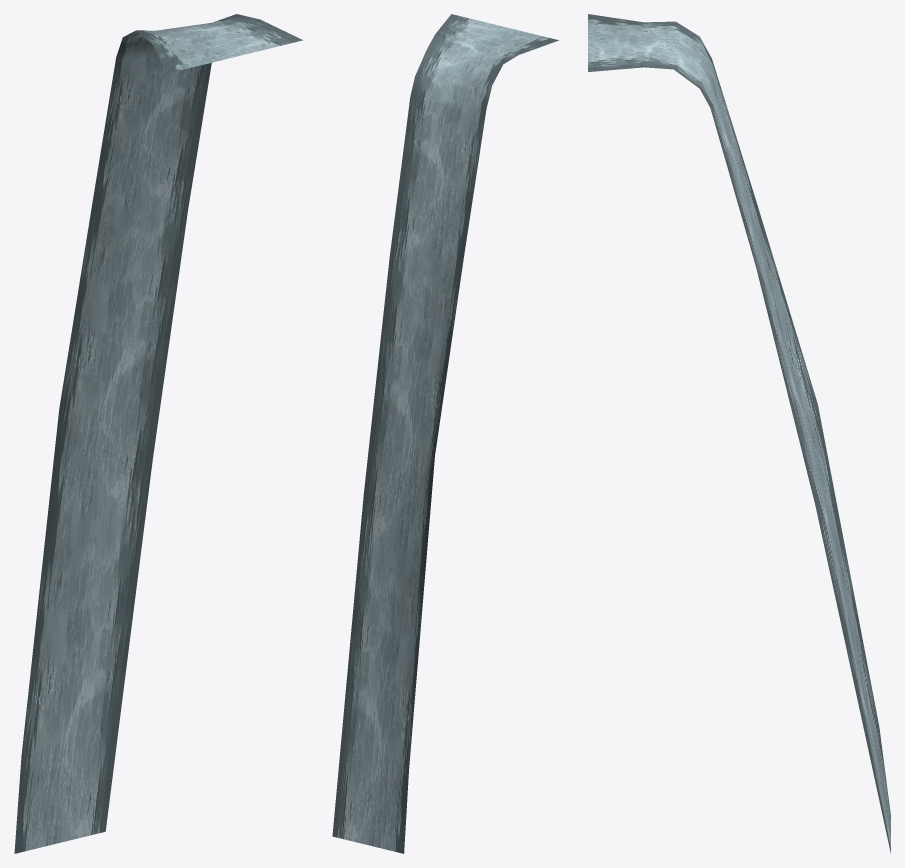
File: 7az_waterfall05.obj
3 views of the same model, side by side, from view 1: azimuth 30°, elevation 25°; view 2: azimuth 150°, elevation 25°; view 3: azimuth 270°, elevation 25° (orthographic). The views are drawn at different scales.
Parts seen in each view (by area): view 1: 7az_waterfall05; view 2: 7az_waterfall05; view 3: 7az_waterfall05.
Boxes of the visible parts, left/top/right/bottom form: 7az_waterfall05: left=14, top=14, right=302, bottom=853; 7az_waterfall05: left=332, top=14, right=558, bottom=853; 7az_waterfall05: left=588, top=14, right=890, bottom=853.
Size of the model in its own units: 10.27 by 65.31 by 22.61.
1 material, 1 textured.
